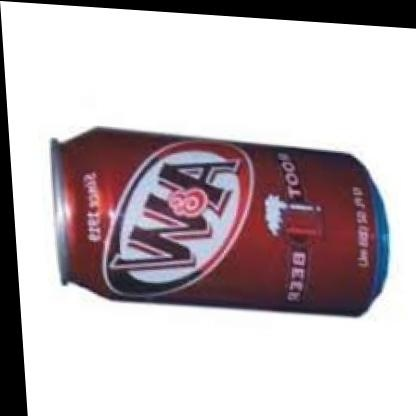trash: (52, 128, 387, 314)
